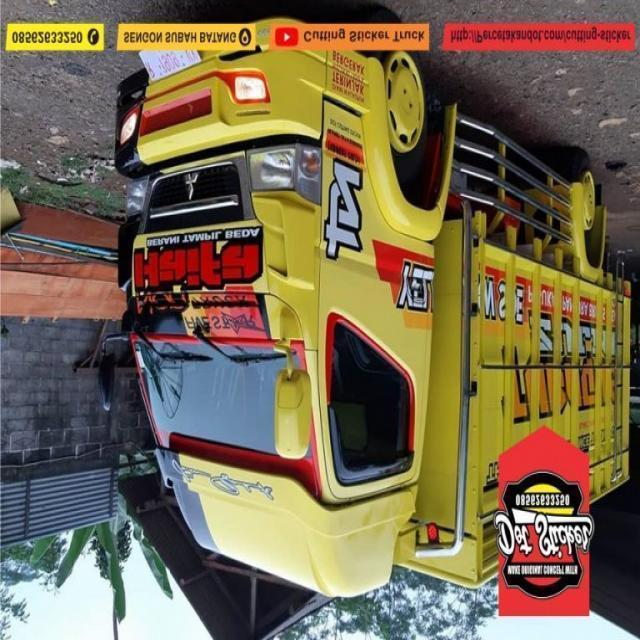truck: (112, 38, 640, 601)
